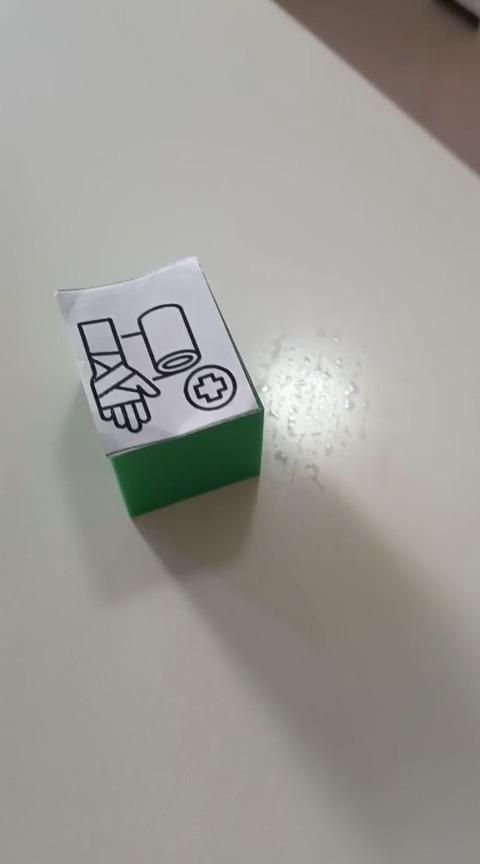Bandages: (54, 254, 265, 518)
